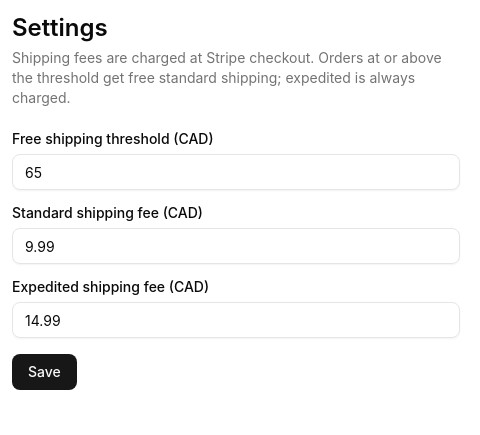
Scenario: SettingsPage › rejects negative values
This screenshot has width=480, height=435.
Replace the text in the number field labelled "Standard shipping fee (CAD)" with "-1" at x=236, y=246, box [12,228,460,264]
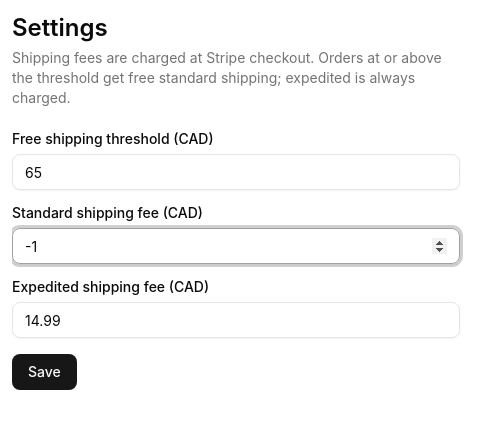
Click the button "Save".
click(44, 372)  # box [12,354,77,390]
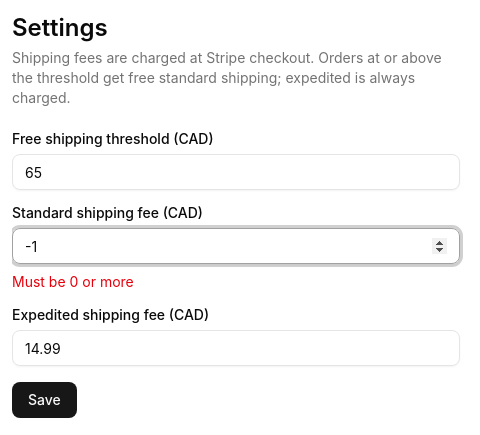
Expected: the text "Must be 0 or more" is shown, [12,273,134,290]
